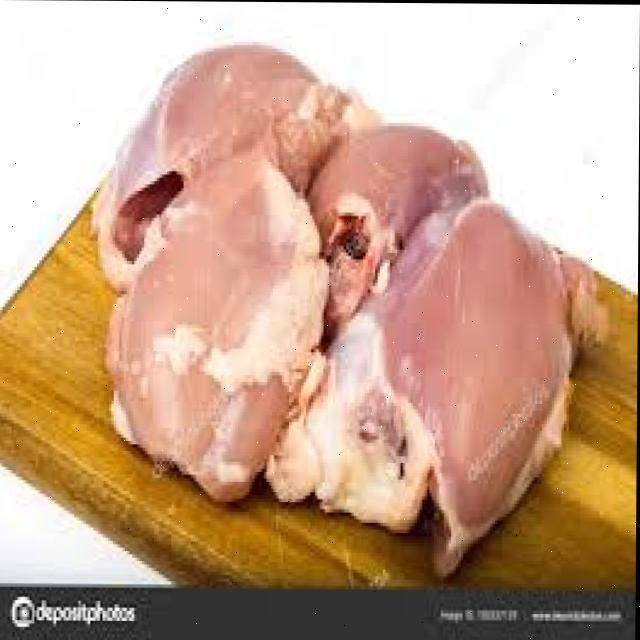thigh: (354, 190, 558, 590), (102, 168, 338, 513), (110, 41, 326, 268)
